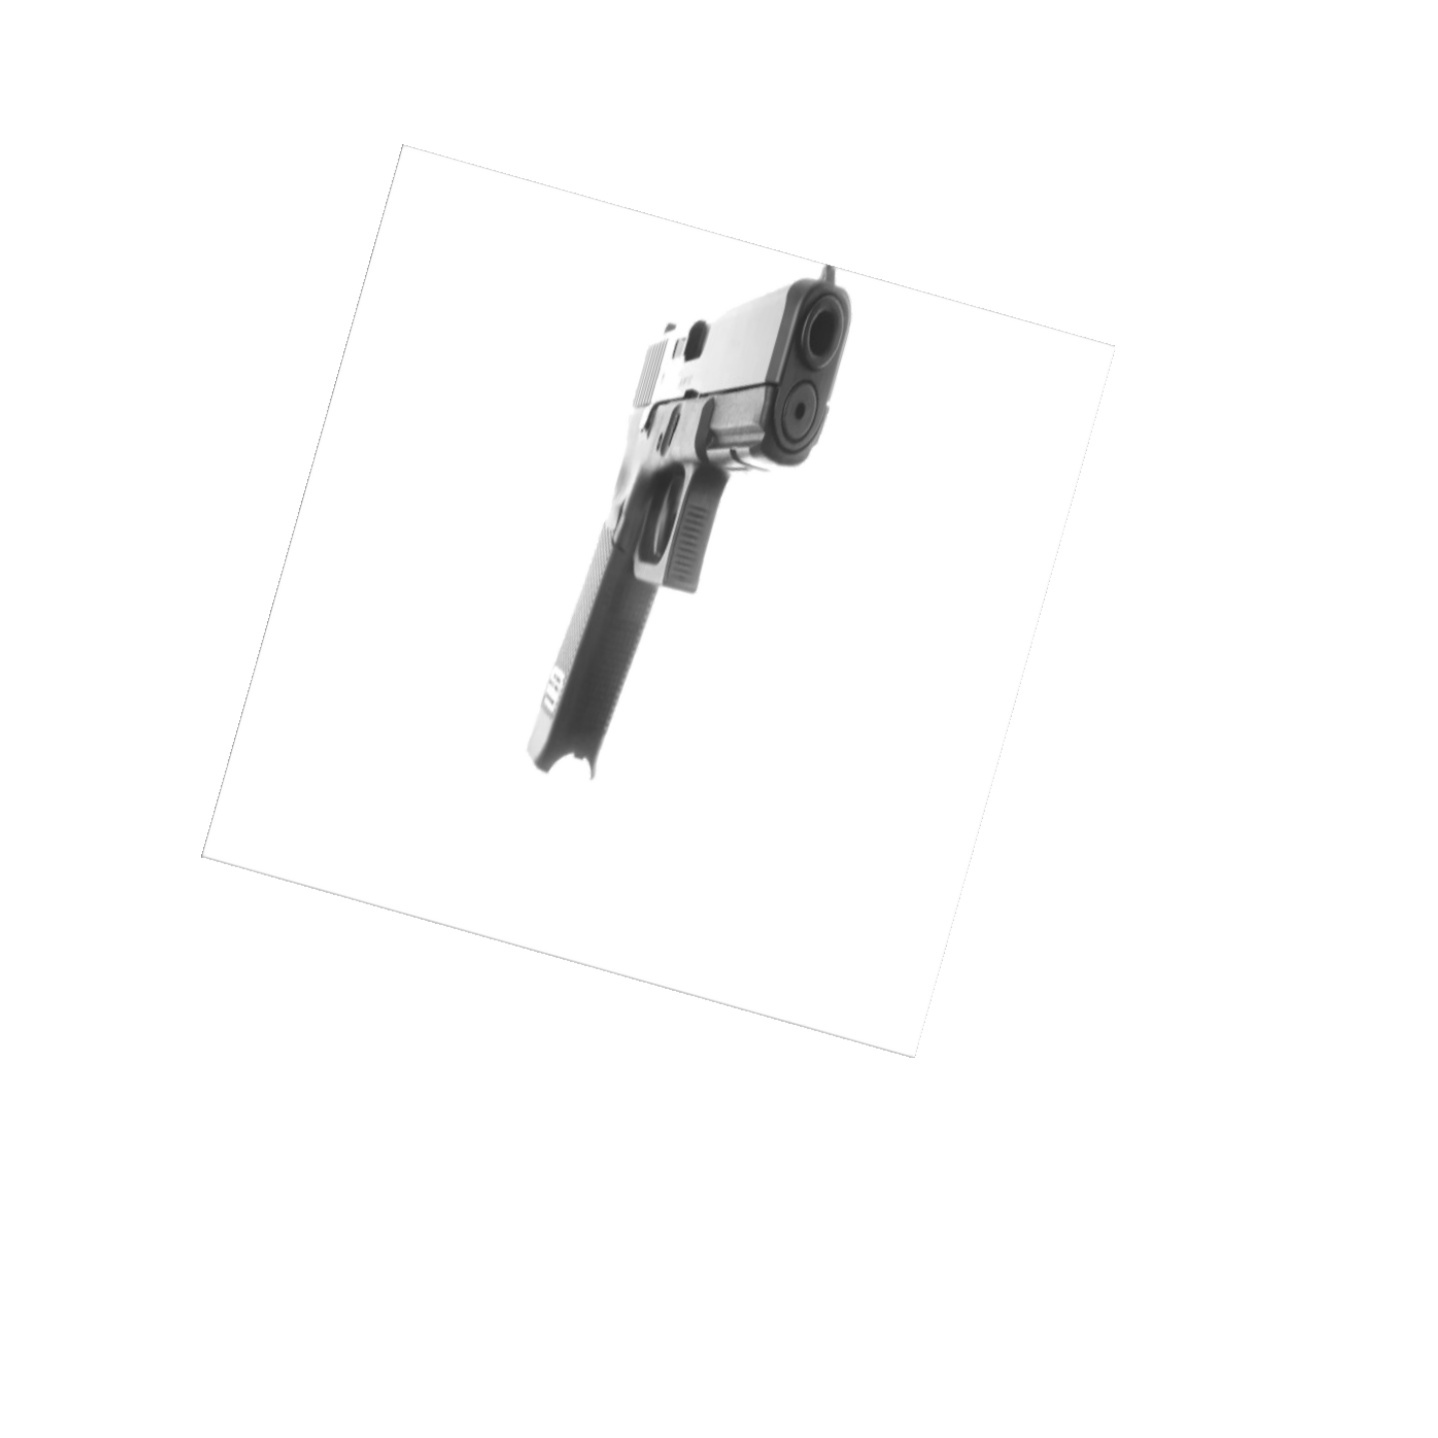gun: (510, 258, 880, 776)
